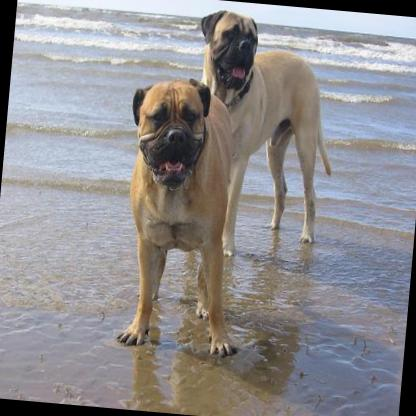bull_mastiff: (175, 1, 346, 268), (110, 72, 260, 361)
